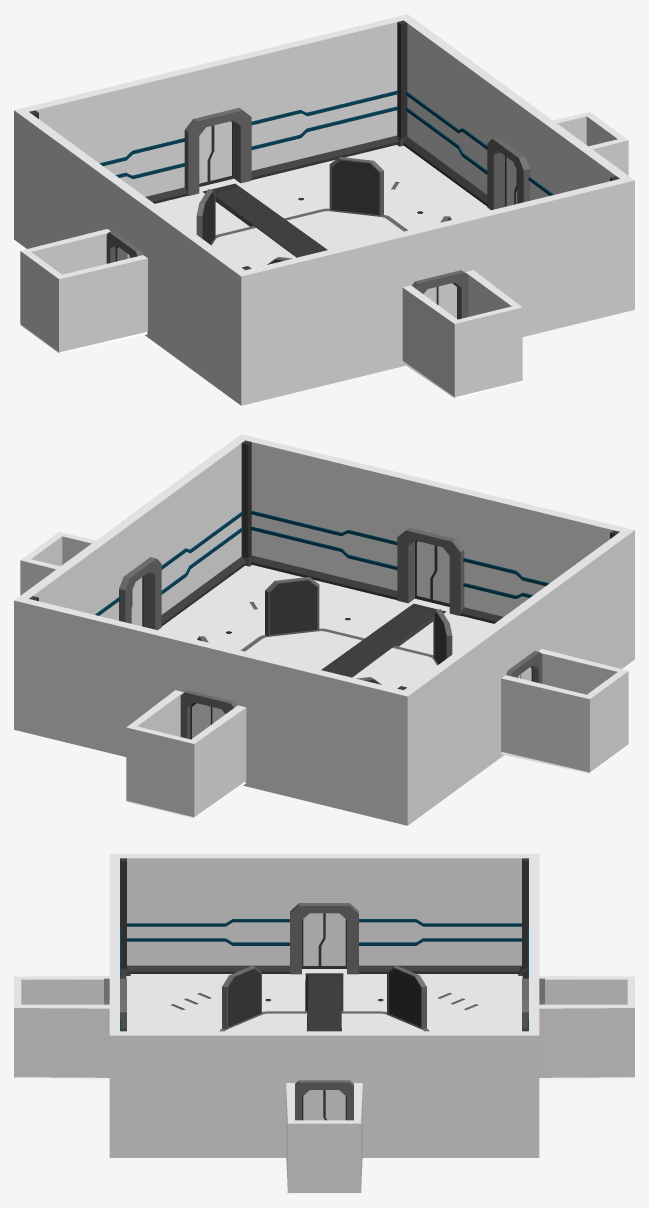
The model's file is SciFiRoom1 (3).fbx.
The picture shows the model from 3 angles, top to bottom: view 1: azimuth 30°, elevation 25°; view 2: azimuth 150°, elevation 25°; view 3: azimuth 270°, elevation 25°; orthographic projection. The views are drawn at different scales.
Parts seen in each view (by area): view 1: Room1.018, Room1.017, Room1.015, Room1.006, Room1.016, Corridor.019, Corridor.016, Room1, Corridor.017, Corridor.011, Walls.012, LightBars (+12 smaller); view 2: Room1.017, Room1.018, Room1.015, Room1.006, Room1.016, Corridor.018, Corridor.010, Room1, Corridor.021, Corridor.011, Walls.001, LightBars (+12 smaller); view 3: Room1.016, Room1.015, Room1.006, Corridor.012, Corridor.020, Corridor, Room1, LightBars, Corridor.017, Corridor.021, Room1.010, Walls.011 (+10 smaller).
Boxes of the visible parts, x1,y1,x2,y2 form: Room1.018: (241, 179, 634, 405); Room1.017: (14, 14, 407, 196); Room1.015: (14, 110, 244, 405); Room1.006: (155, 145, 490, 268); Room1.016: (404, 14, 634, 200); Corridor.019: (59, 255, 147, 352); Corridor.016: (454, 306, 522, 396); Room1: (29, 20, 619, 319); Corridor.017: (402, 285, 457, 396); Corridor.011: (20, 251, 61, 351); Walls.012: (329, 157, 383, 216); LightBars: (99, 90, 553, 195); Room1.017: (14, 599, 407, 825); Room1.018: (241, 434, 634, 616); Room1.015: (404, 530, 634, 825); Room1.006: (158, 565, 493, 688); Room1.016: (14, 434, 244, 620); Corridor.018: (501, 675, 589, 772); Corridor.010: (126, 726, 194, 816); Room1: (29, 440, 619, 739); Corridor.021: (191, 705, 246, 816); Corridor.011: (587, 671, 628, 771); Walls.001: (265, 577, 319, 636); LightBars: (95, 510, 549, 615); Room1.016: (109, 1031, 539, 1157); Room1.015: (110, 854, 538, 971); Room1.006: (126, 971, 522, 1031); Corridor.012: (14, 1004, 109, 1077); Corridor.020: (539, 1004, 634, 1077); Corridor: (287, 1120, 361, 1192); Room1: (120, 858, 528, 1120); LightBars: (120, 919, 528, 1028); Corridor.017: (15, 976, 109, 1004); Corridor.021: (539, 976, 633, 1004); Room1.010: (290, 903, 358, 974); Walls.011: (222, 965, 261, 1029).
Size of the model in its own units: 2736 by 593 by 2732.
Materials: 1 (1 with a texture image).
